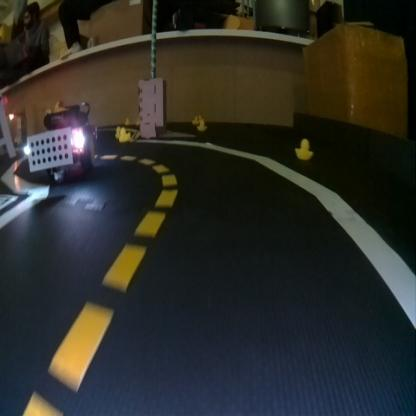Duckie: (296, 138, 309, 158), (118, 128, 130, 142), (197, 120, 205, 128)
Duckiebot: (25, 108, 94, 177)
